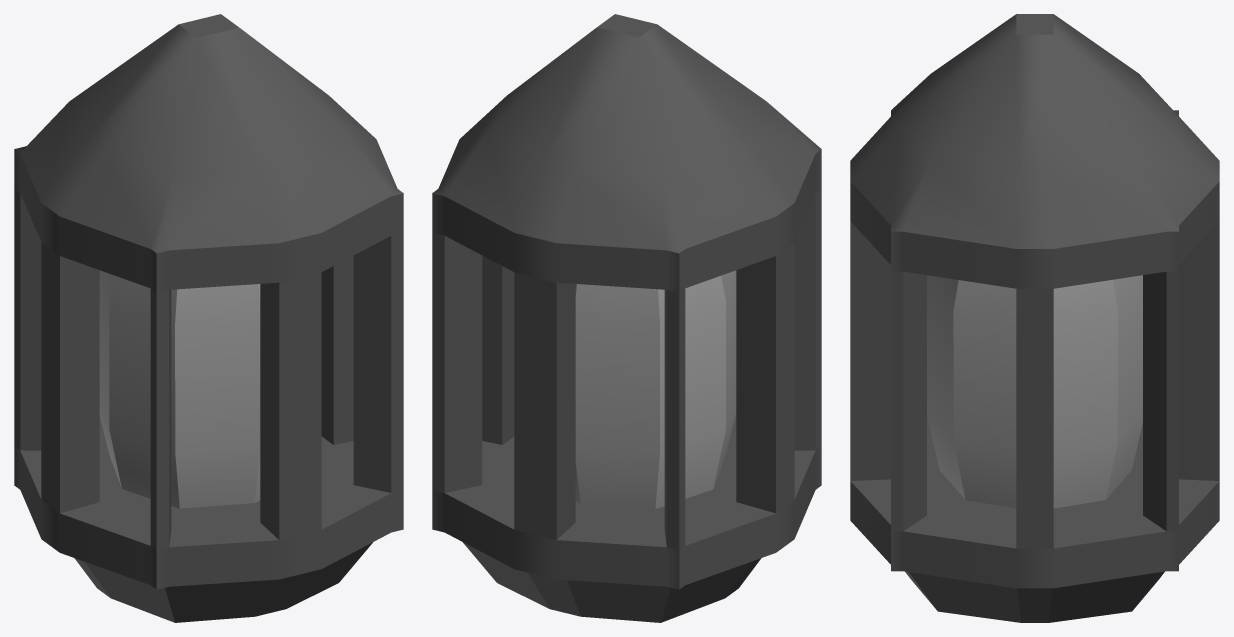
Rendered from Mesh_lamp.fbx.
The picture shows the model from 3 angles, left to right: view 1: azimuth 30°, elevation 25°; view 2: azimuth 150°, elevation 25°; view 3: azimuth 270°, elevation 25°; orthographic projection.
Visible parts, largest first — view 1: lamp; view 2: lamp; view 3: lamp.
Part boxes in pixels (left/top/right/bottom): lamp: left=14, top=14, right=403, bottom=622; lamp: left=432, top=14, right=821, bottom=622; lamp: left=850, top=14, right=1219, bottom=622.
Bounding box in the file's own units: 38.2 × 62.46 × 38.2.
